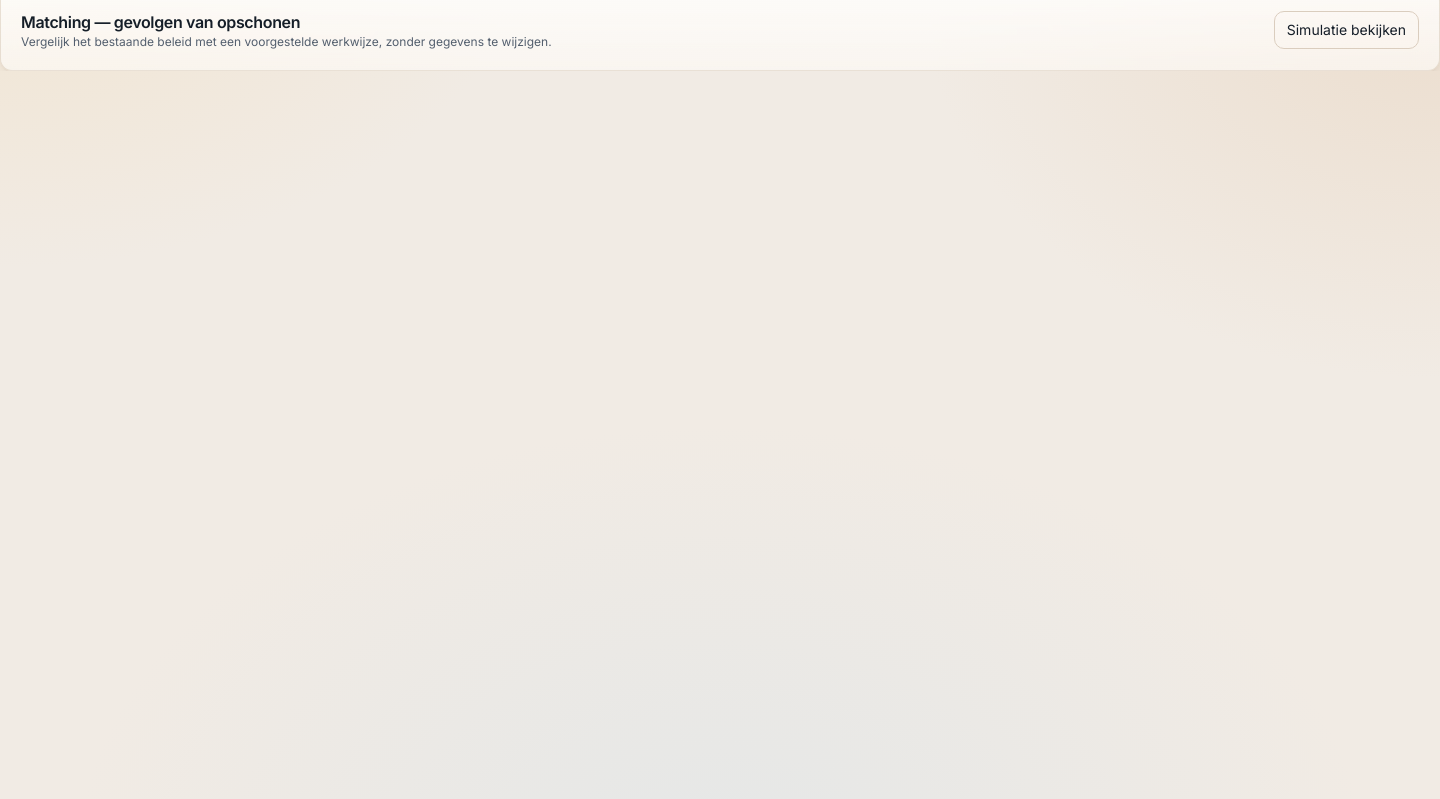
Test: A15 CRM read-only review UI › toont per weggevallen kandidaat de relatie, het object en de reden zonder gegevens te wijzigen
Click the button "Simulatie bekijken" at x=1346, y=30, box [1274,11,1419,49]
(page scrolled)
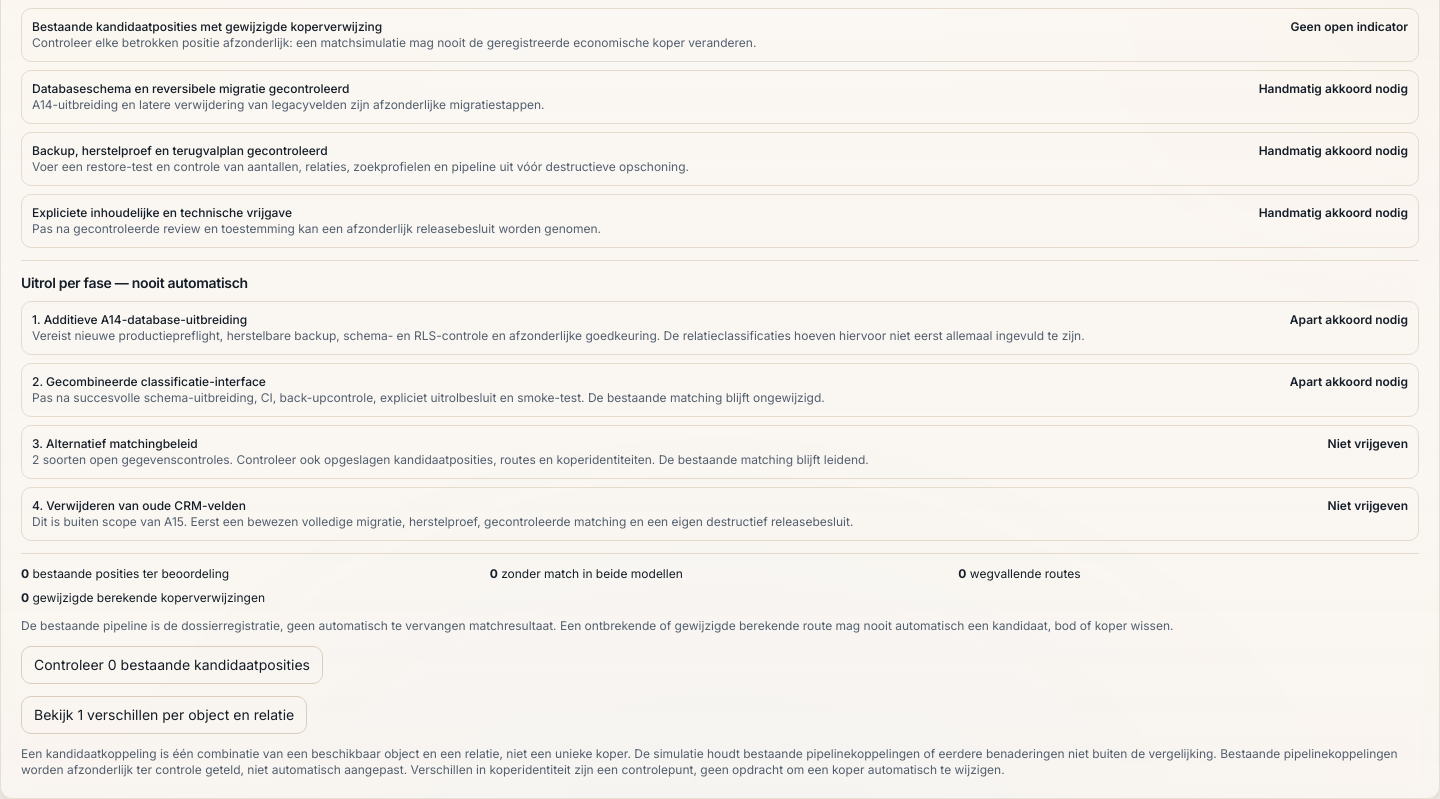
Click the button "Bekijk 1 verschillen per object en relatie" at x=164, y=715, box [21,696,307,734]
(page scrolled)
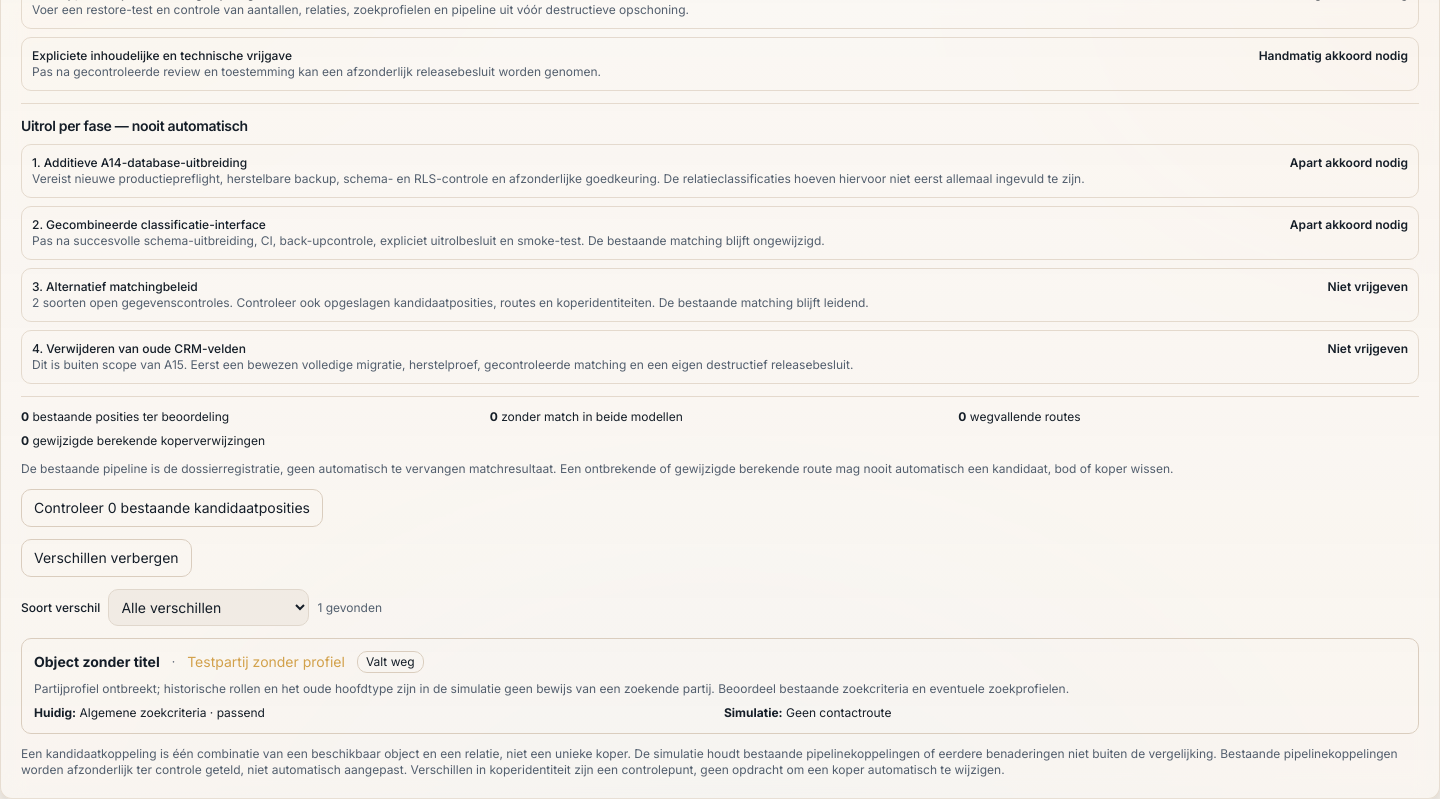
Now the link "Testpartij zonder profiel" is shown, box [187,652,345,672]
Now the text "Valt weg" is shown, box [357,651,424,673]
Now the text "Partijprofiel ontbreekt" is shown, box [34,681,1069,696]
